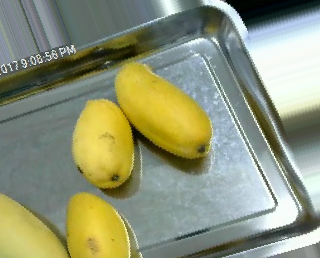Mango: (115, 62, 212, 159), (72, 97, 133, 187), (0, 192, 69, 258), (66, 192, 130, 258)
